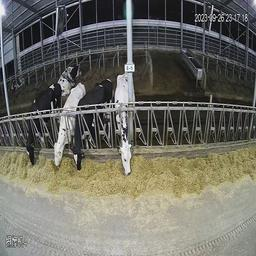cow: (73, 79, 113, 173), (22, 82, 63, 167), (51, 83, 87, 167), (114, 72, 137, 176), (57, 63, 82, 95)
